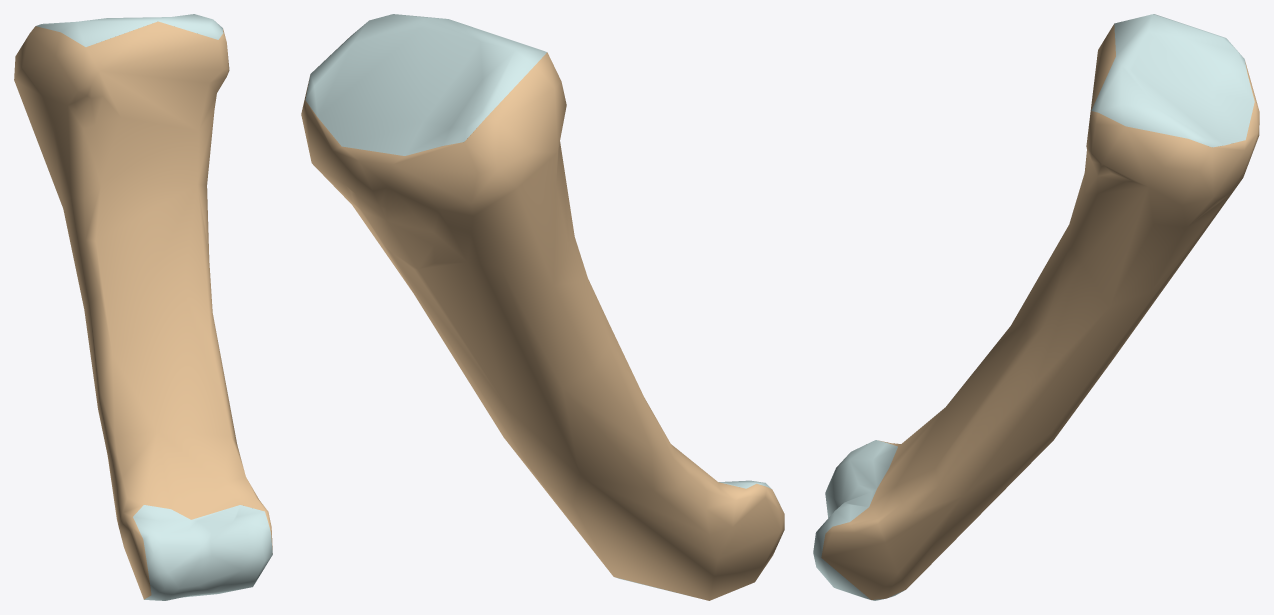
Rendered from Phalanx_proximal_3rd_finger_right.glb.
The picture shows the model from 3 angles, left to right: view 1: azimuth 30°, elevation 25°; view 2: azimuth 150°, elevation 25°; view 3: azimuth 270°, elevation 25°; orthographic projection. The views are drawn at different scales.
Parts seen in each view (by area): view 1: Proximal_phalanx_of_3rd_finger.r_Generated_Mesh_From_X3D.707; view 2: Proximal_phalanx_of_3rd_finger.r_Generated_Mesh_From_X3D.707; view 3: Proximal_phalanx_of_3rd_finger.r_Generated_Mesh_From_X3D.707.
Boxes of the visible parts, bbox=[...] form: Proximal_phalanx_of_3rd_finger.r_Generated_Mesh_From_X3D.707: bbox=[14, 14, 272, 600]; Proximal_phalanx_of_3rd_finger.r_Generated_Mesh_From_X3D.707: bbox=[301, 14, 784, 600]; Proximal_phalanx_of_3rd_finger.r_Generated_Mesh_From_X3D.707: bbox=[813, 14, 1259, 600].
Size of the model in its own units: 0.019 by 0.0421 by 0.0302.
